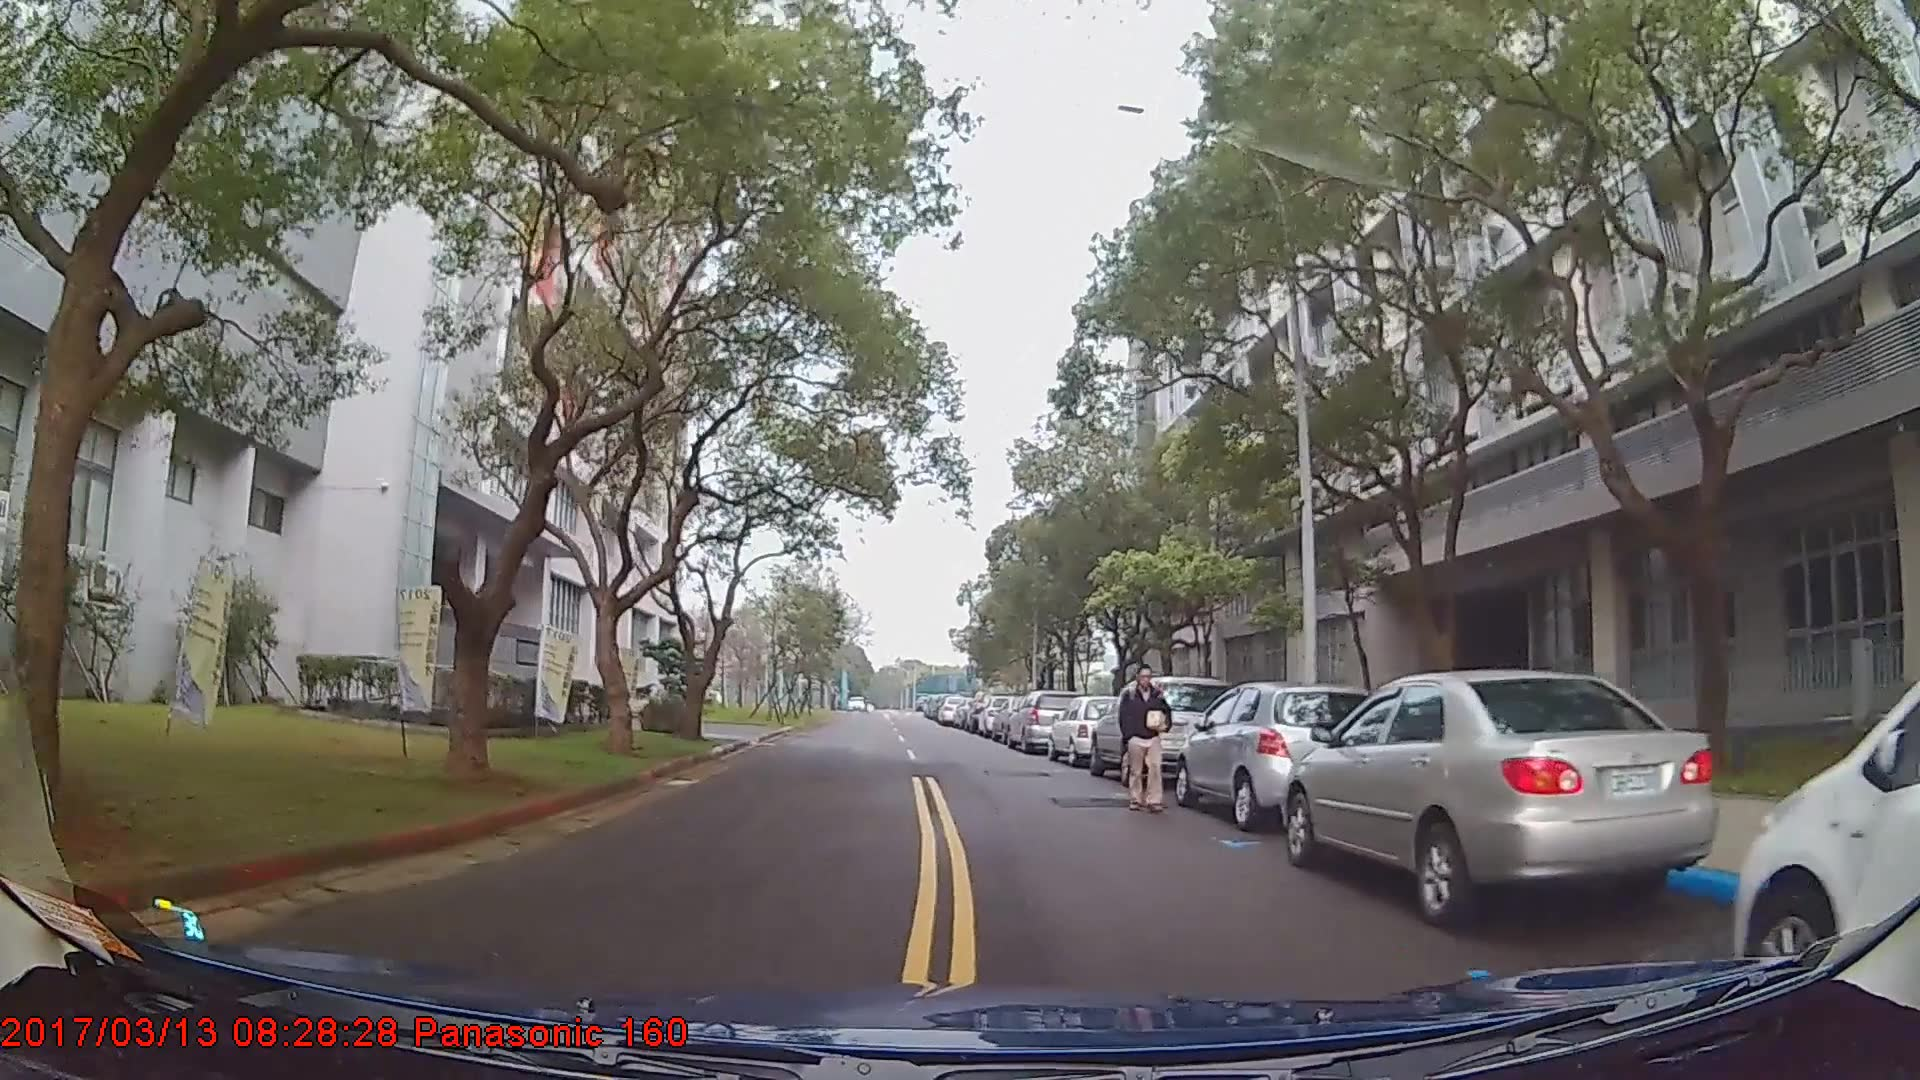pedestrian: (1122, 666, 1178, 811)
vehicle: (1281, 666, 1722, 933), (1732, 676, 1919, 1006), (1174, 678, 1377, 829), (1089, 673, 1236, 784), (1045, 692, 1127, 766), (1004, 688, 1085, 751)
